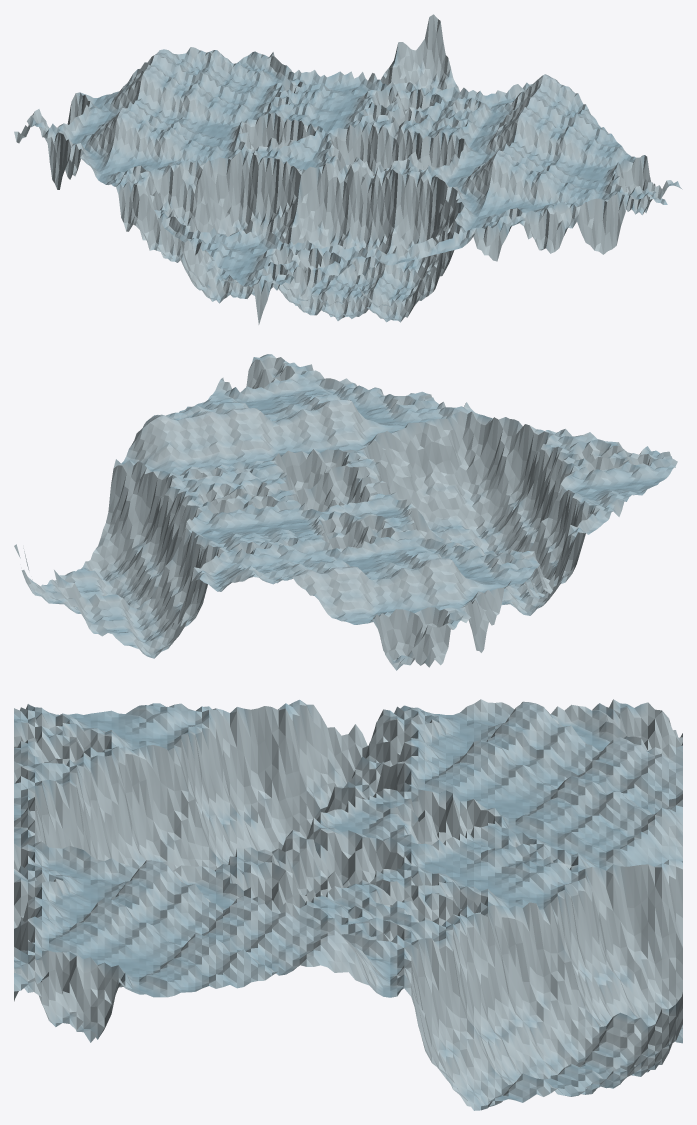
Rendered from polar_lod0.glb.
The picture shows the model from 3 angles, top to bottom: view 1: azimuth 30°, elevation 25°; view 2: azimuth 150°, elevation 25°; view 3: azimuth 270°, elevation 25°; orthographic projection. The views are drawn at different scales.
Parts seen in each view (by area): view 1: world; view 2: world; view 3: world.
Part boxes in pixels (x1,y1,x2,y2): world: [14, 14, 682, 324]; world: [14, 354, 677, 670]; world: [14, 699, 682, 1110].
Bounding box in the file's own units: 2 × 0.6048 × 2.
